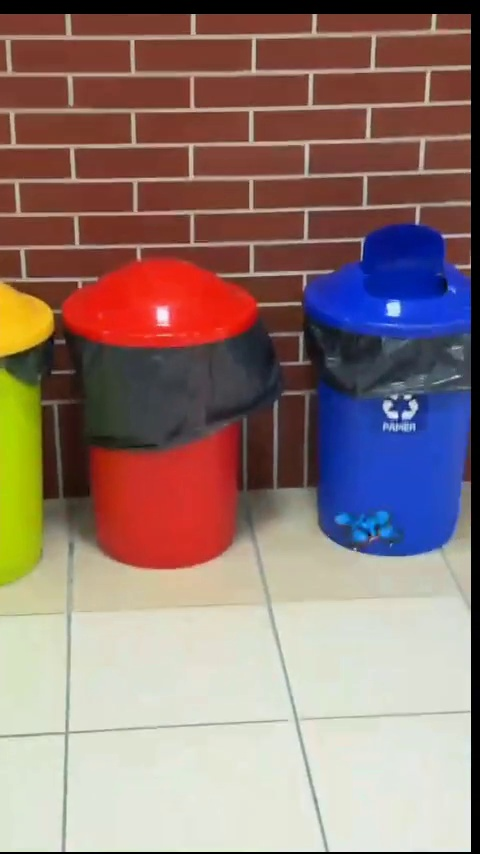drone: (336, 507, 399, 558)
